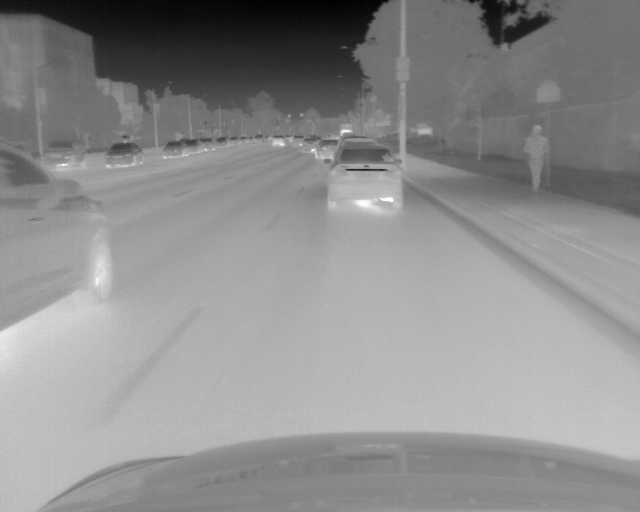car: (1, 142, 115, 333), (325, 147, 404, 211), (35, 141, 88, 169), (104, 142, 143, 168), (336, 136, 378, 149), (162, 140, 188, 158), (316, 138, 335, 160), (185, 139, 205, 153), (302, 136, 316, 153), (270, 136, 285, 147), (216, 136, 228, 149), (290, 135, 303, 147), (205, 139, 216, 152), (253, 134, 264, 144), (237, 136, 248, 145), (228, 137, 237, 146)
people: (524, 125, 549, 196)
